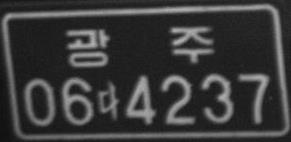0: (21, 76, 58, 127)
2: (159, 72, 197, 127)
3: (199, 72, 236, 126)
4: (124, 73, 158, 127)
6: (59, 74, 96, 127)
7: (235, 71, 271, 126)
광주_D: (63, 23, 218, 69)
다: (96, 80, 122, 123)
